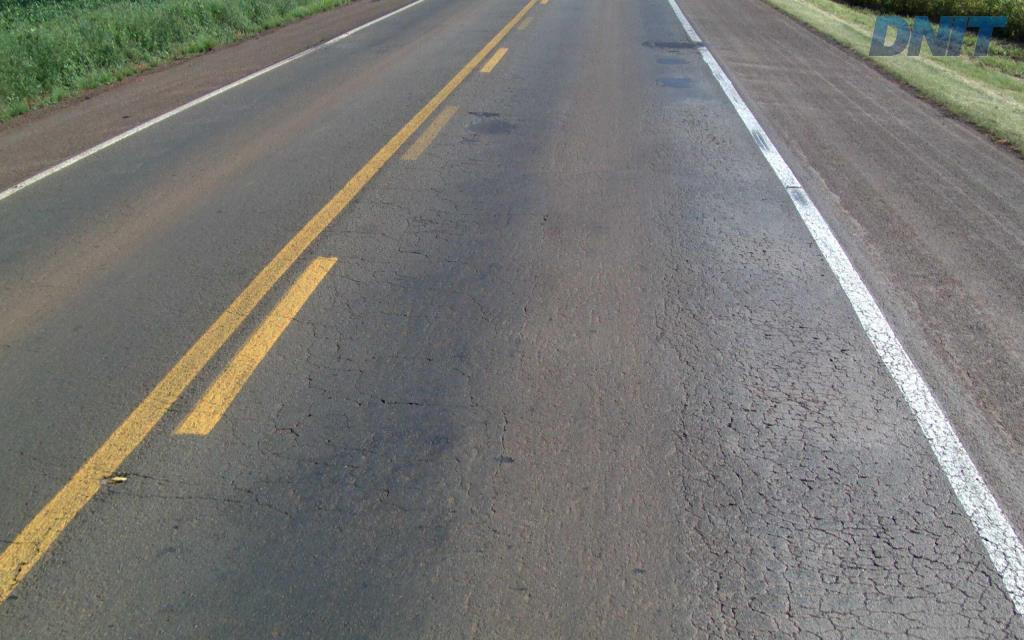crack: (677, 470, 731, 559)
